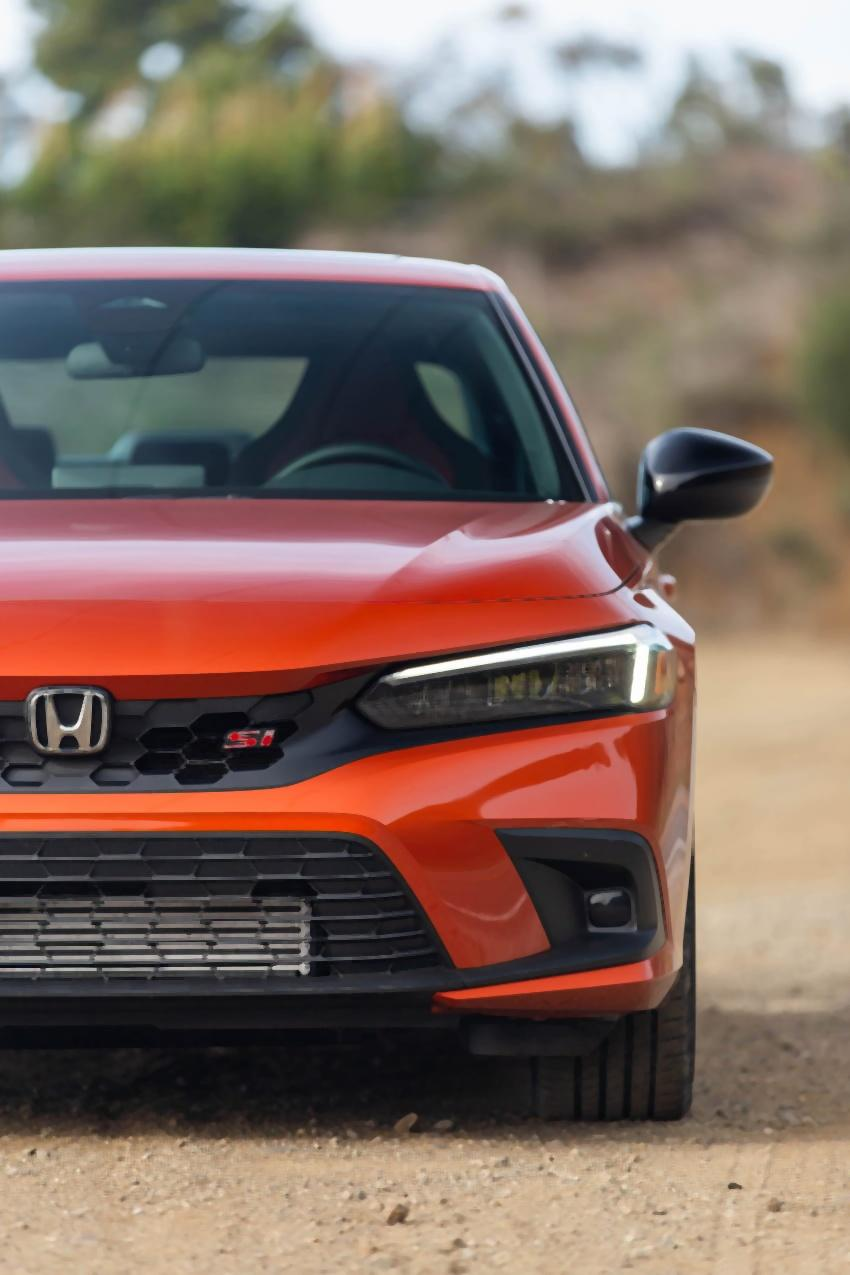Car hood: (0, 489, 640, 702)
Front bumper: (0, 698, 744, 1037)
Headlight - -L-: (344, 604, 683, 758)
Side mirror - -L-: (604, 404, 807, 571)
